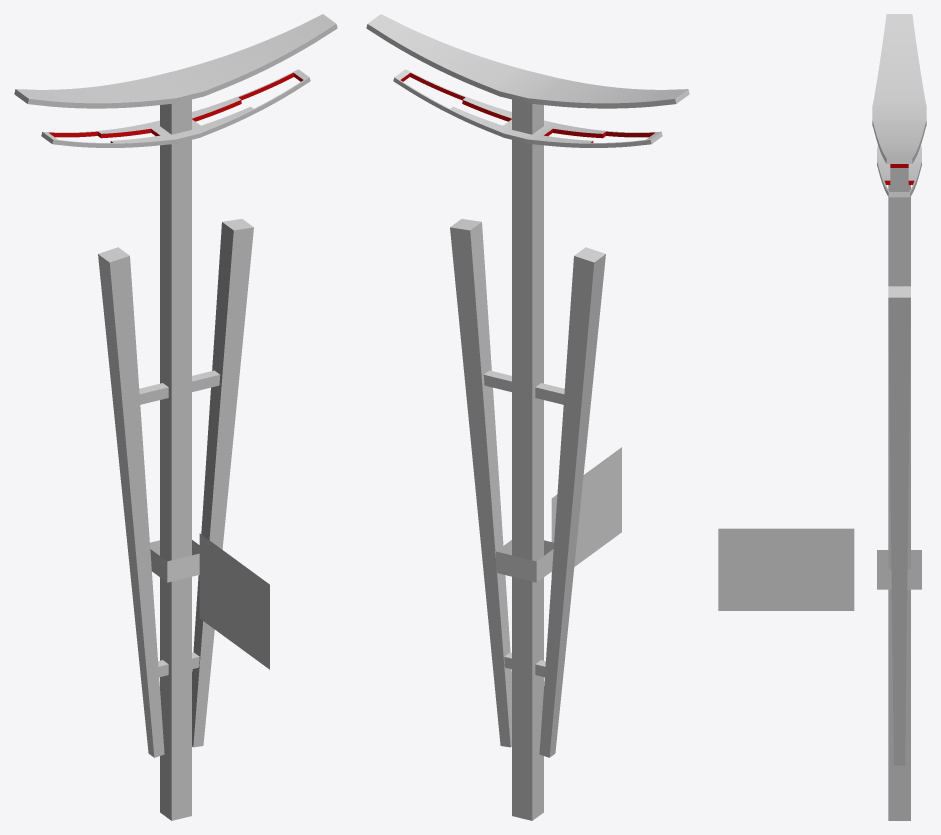
File: SM_StreetLight.fbx
3 views of the same model, side by side, from view 1: azimuth 30°, elevation 25°; view 2: azimuth 150°, elevation 25°; view 3: azimuth 270°, elevation 25° (orthographic). The views are drawn at different scales.
Parts seen in each view (by area): view 1: Cube.001_Cube.001, Plane.001_Plane.001, Plane.002_Plane.002; view 2: Cube.001_Cube.001, Plane.001_Plane.001, Plane.002_Plane.002; view 3: Cube.001_Cube.001, Plane.001_Plane.001, Plane.002_Plane.002.
Boxes of the visible parts, <box> form: Cube.001_Cube.001: <box>14,14,337,820</box>; Plane.001_Plane.001: <box>199,533,269,669</box>; Plane.002_Plane.002: <box>150,540,199,582</box>; Cube.001_Cube.001: <box>366,14,689,820</box>; Plane.001_Plane.001: <box>551,447,621,574</box>; Plane.002_Plane.002: <box>496,540,553,582</box>; Cube.001_Cube.001: <box>872,14,926,820</box>; Plane.001_Plane.001: <box>718,528,854,610</box>; Plane.002_Plane.002: <box>877,550,921,589</box>.
Size of the model in its own units: 152 by 356 by 92.
